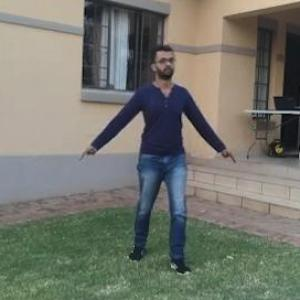land: (87, 53, 227, 258)
